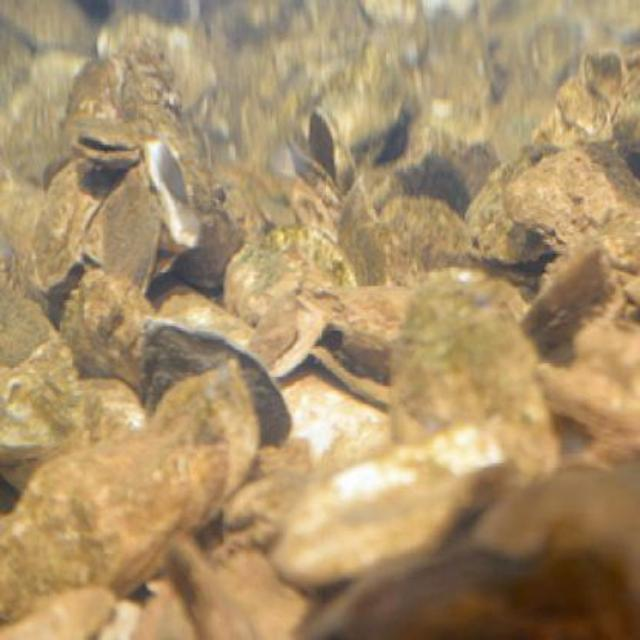Oyster-Closed: (0, 360, 259, 624), (394, 275, 560, 495), (284, 421, 494, 586), (500, 140, 638, 293), (141, 324, 293, 451), (220, 233, 342, 374), (0, 271, 91, 457), (64, 271, 156, 389), (380, 186, 488, 284), (83, 159, 160, 286), (32, 161, 107, 290), (522, 248, 612, 347), (340, 178, 391, 288), (68, 57, 126, 133)
Oyster-Open: (141, 133, 209, 248), (284, 110, 355, 209), (74, 116, 143, 173)
